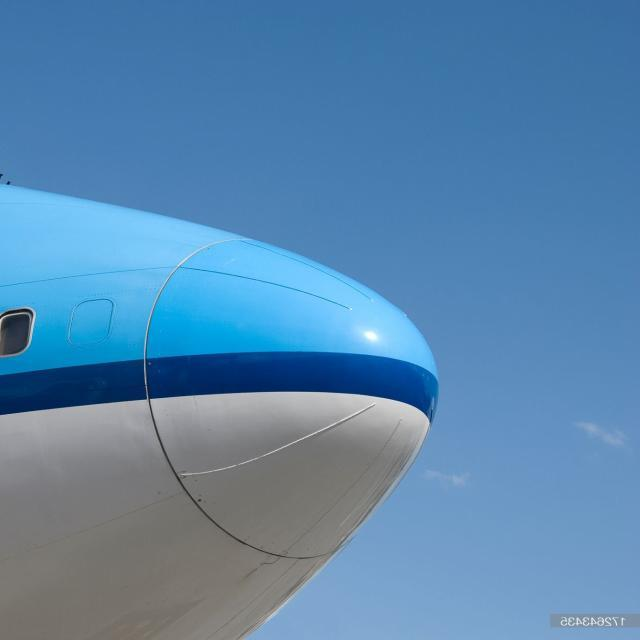crack: (258, 560, 291, 571)
